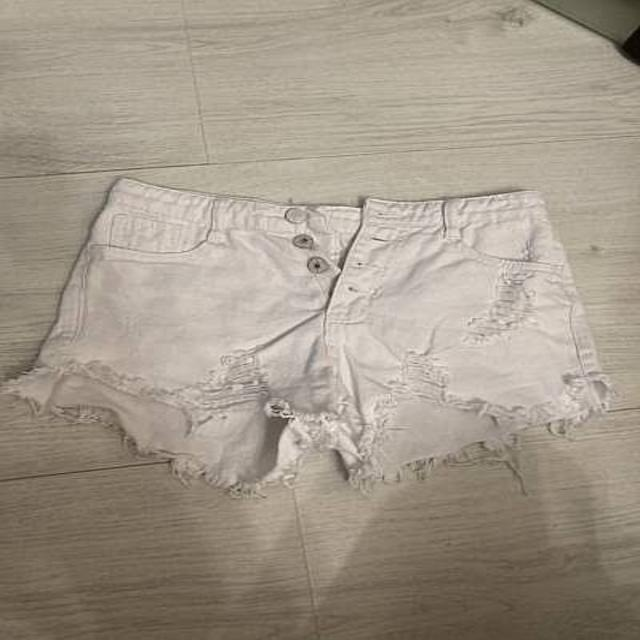SHORT: (5, 172, 640, 510)
